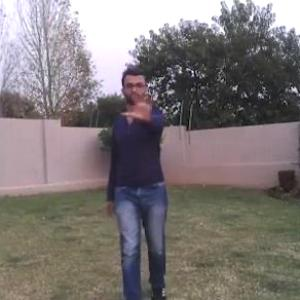follow_hand: (120, 82, 159, 124)
